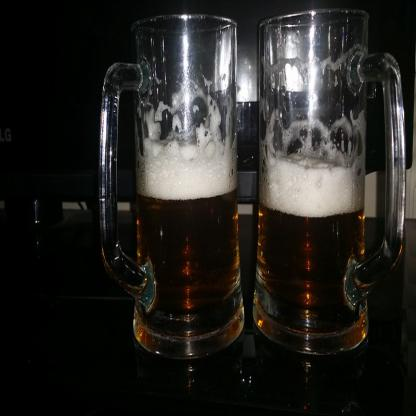drinking: (253, 8, 406, 355), (98, 14, 245, 359)
